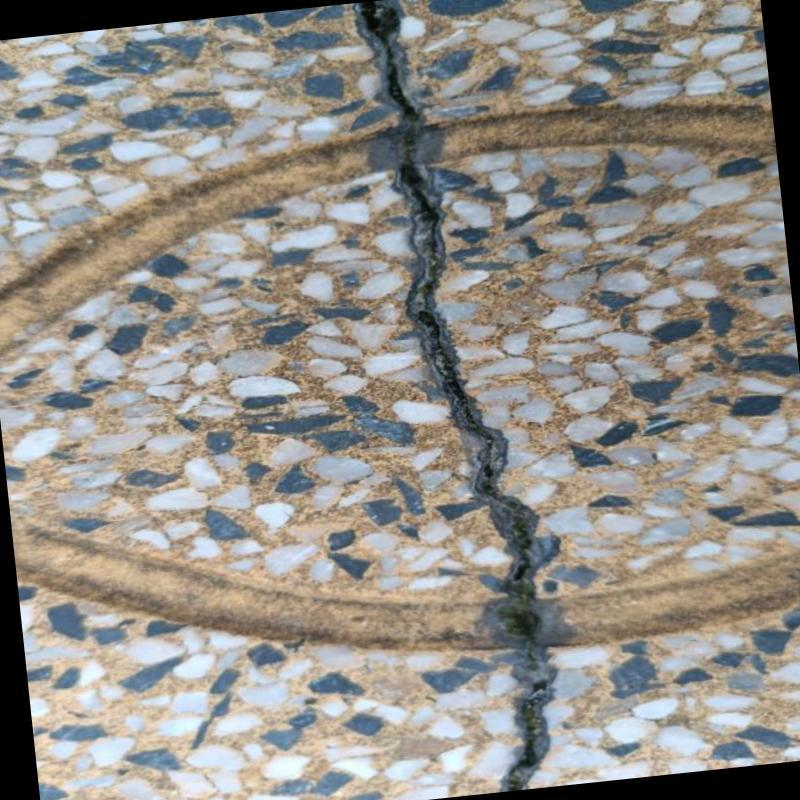crack: (353, 0, 554, 790)
